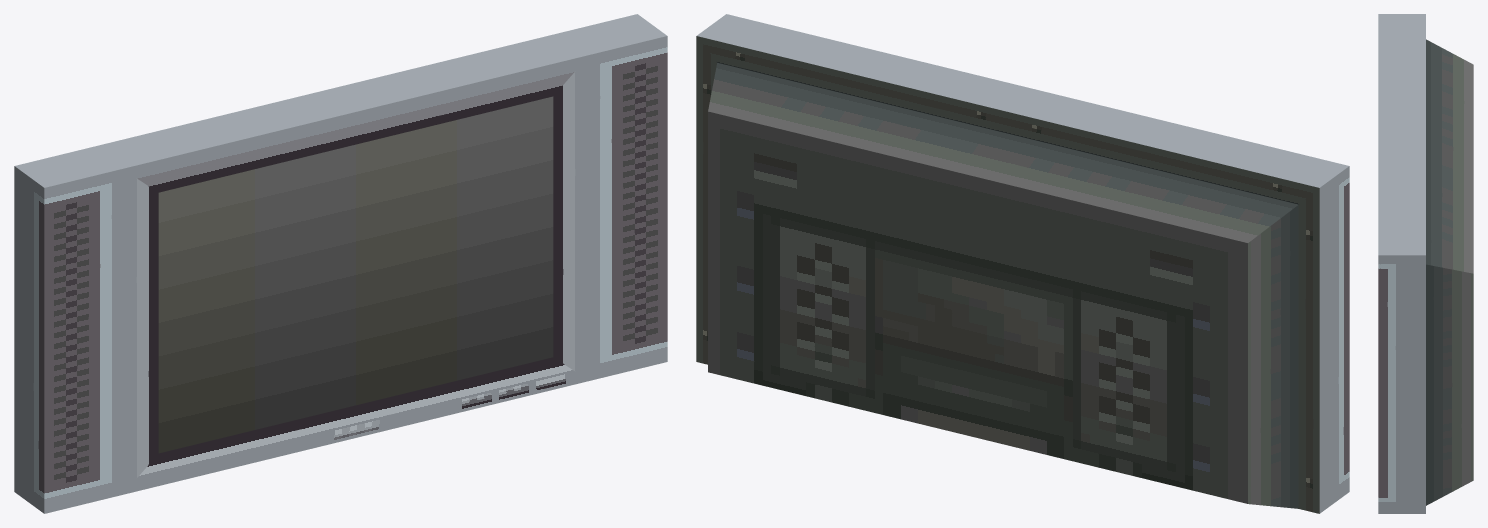
File: Flat Screen TV.obj
The picture shows the model from 3 angles, left to right: view 1: azimuth 30°, elevation 25°; view 2: azimuth 150°, elevation 25°; view 3: azimuth 270°, elevation 25°; orthographic projection. The views are drawn at different scales.
Parts seen in each view (by area): view 1: polygon1.194, polygon4.109, polygon2.166; view 2: polygon0.197, polygon3.128, polygon4.109, polygon2.166; view 3: polygon3.128, polygon2.166, polygon4.109.
Boxes of the visible parts, x1,y1,x2,y2 form: polygon1.194: (158, 96, 553, 453); polygon4.109: (15, 14, 666, 494); polygon2.166: (14, 36, 667, 513); polygon0.197: (708, 111, 1247, 503); polygon3.128: (696, 36, 1319, 513); polygon4.109: (697, 14, 1348, 187); polygon2.166: (1319, 166, 1349, 513); polygon3.128: (1426, 39, 1473, 505); polygon2.166: (1378, 255, 1425, 513); polygon4.109: (1378, 14, 1425, 255).
Size of the model in its own units: 6 by 3 by 1.
Materials: 5 (5 with a texture image).
